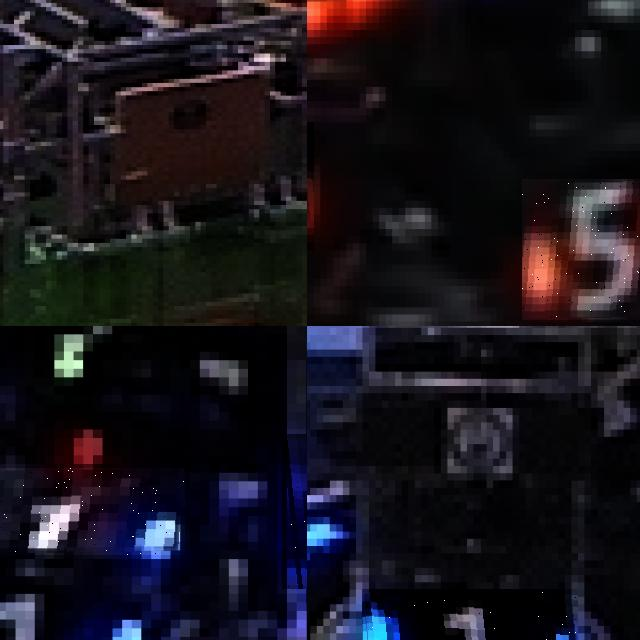B1: (0, 468, 185, 554), (362, 589, 577, 640), (0, 576, 160, 640)
R5: (522, 179, 640, 321)
